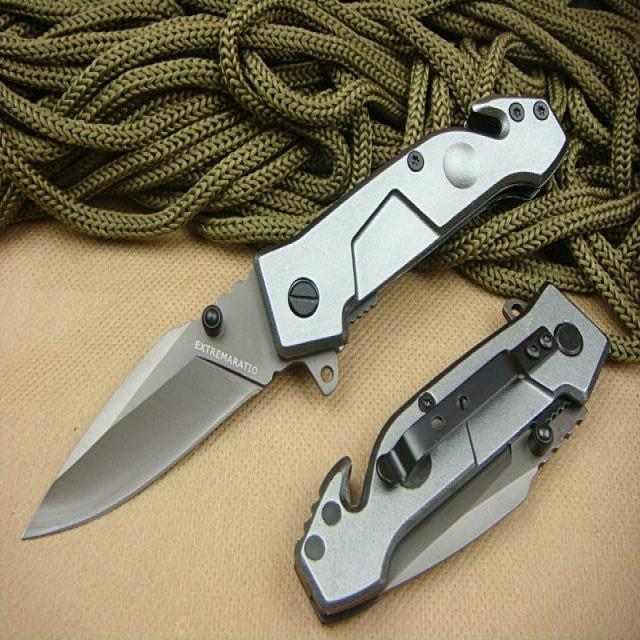knife: (17, 87, 569, 551)
